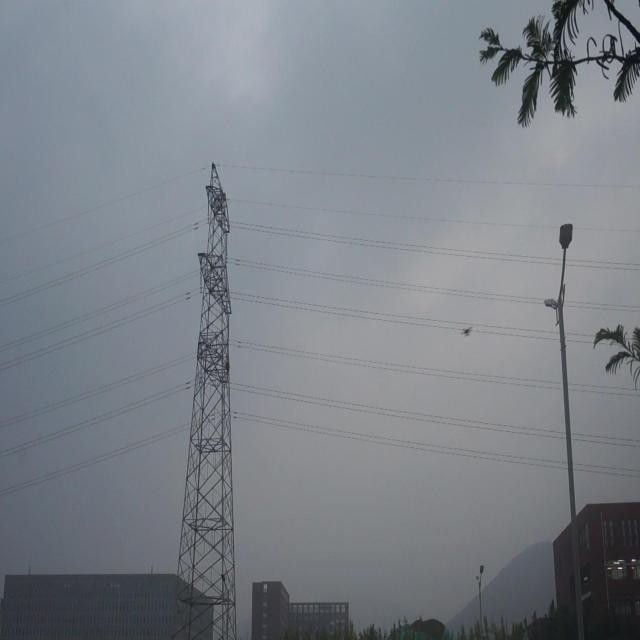UAV: (460, 325, 473, 337)
